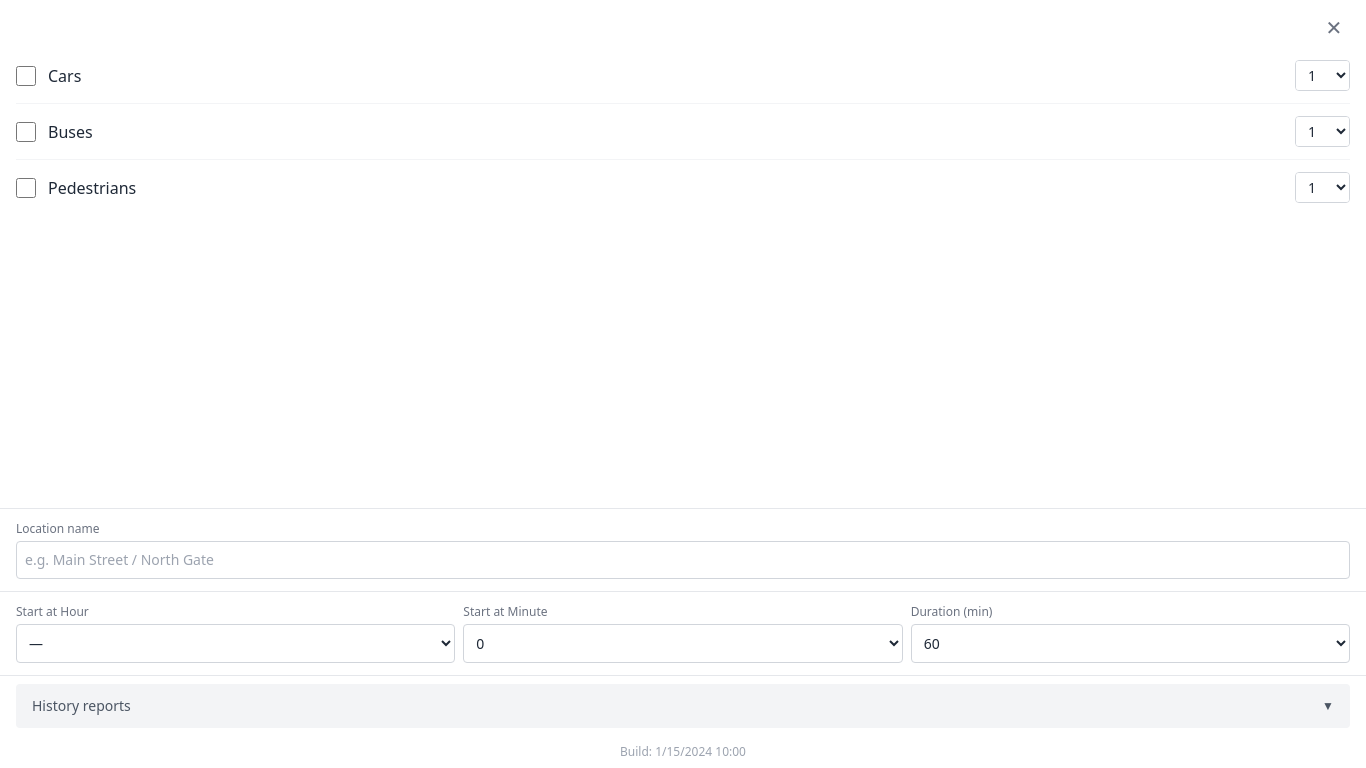
Test: SettingsModal › history shows existing localStorage reports
The image size is (1366, 768).
Step 1. Click the text "History reports" → (81, 706), box [32,696,131,716]
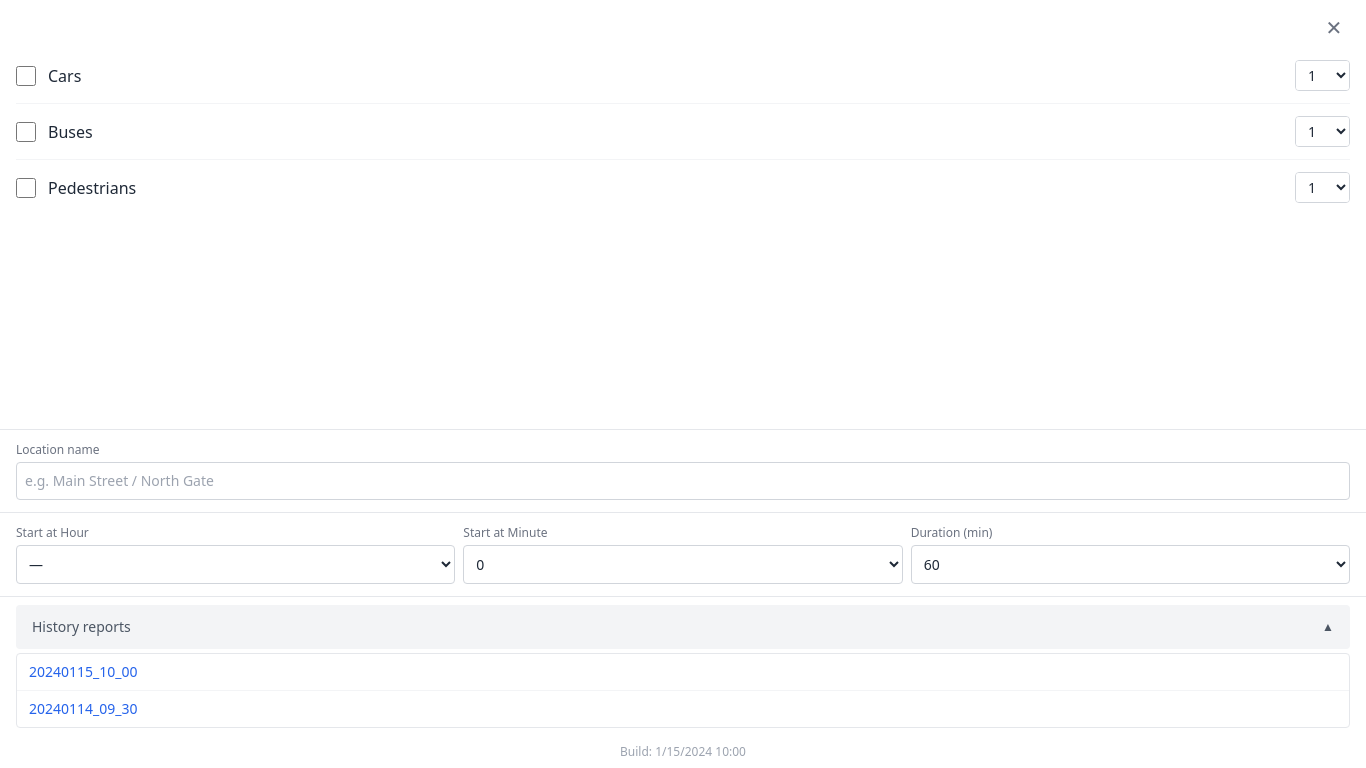
Expected: the button "20240115_10_00" is shown, [17,654,1349,691]
Expected: the button "20240114_09_30" is shown, [17,691,1349,727]
